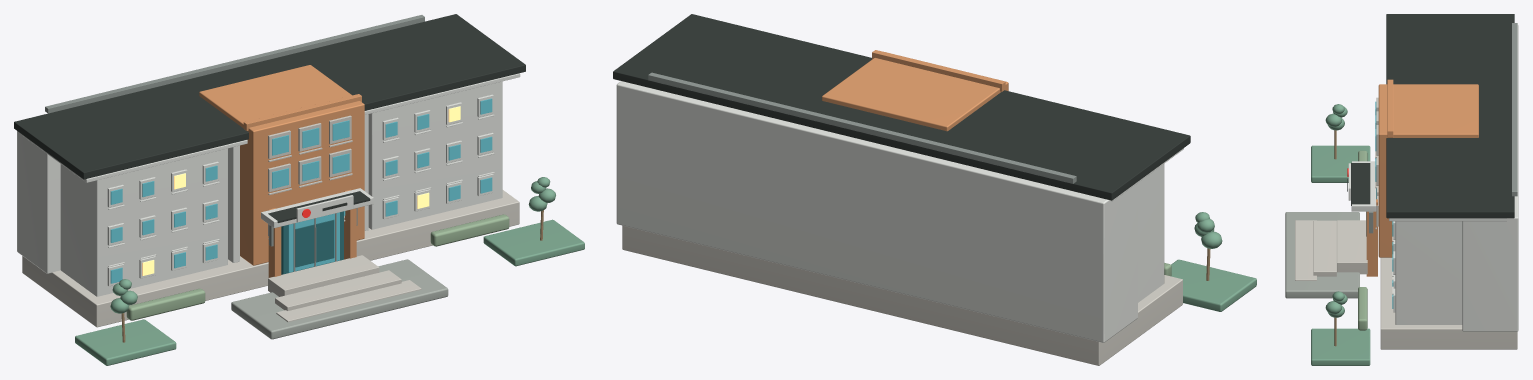
The model's file is visma.glb.
3 views of the same model, side by side, from view 1: azimuth 30°, elevation 25°; view 2: azimuth 150°, elevation 25°; view 3: azimuth 270°, elevation 25° (orthographic). The views are drawn at different scales.
Visible parts, largest first — view 1: LM_Visma_Roof_ContinuousFlatRoofline_ParapetBase, LM_Visma_LeftWing_WhiteFacade, LM_Visma_Center_OrangeCore, LM_Visma_RightWing_WhiteFacade, LM_Visma_Main_ContinuousBasePlinth, LM_Visma_Main_RearWhiteSpine, LM_Visma_Site_PavedForecourt, LM_Visma_Roof_BackLowGlassRibbon, LM_Visma_Site_LowLawn_Right, LM_Visma_Site_LowLawn_Left, LM_Visma_Entrance_Landing, LM_Visma_Entrance_StepMiddle (+15 smaller); view 2: LM_Visma_Main_RearWhiteSpine, LM_Visma_Roof_ContinuousFlatRoofline_ParapetBase, LM_Visma_Main_ContinuousBasePlinth, LM_Visma_Center_OrangeCore, LM_Visma_Roof_BackLowGlassRibbon, LM_Visma_LeftWing_WhiteFacade, LM_Visma_Site_LowLawn_Left, LM_Visma_Roof_CentralOrangeCrown; view 3: LM_Visma_Roof_ContinuousFlatRoofline_ParapetBase, LM_Visma_RightWing_WhiteFacade, LM_Visma_Main_RearWhiteSpine, LM_Visma_Center_OrangeCore, LM_Visma_Main_ContinuousBasePlinth, LM_Visma_Site_PavedForecourt, LM_Visma_Site_LowLawn_Right, LM_Visma_Site_LowLawn_Left, LM_Visma_Entrance_Landing, LM_Visma_Entrance_StepMiddle, LM_Visma_Entrance_StepLower, LM_Visma_Roof_BackLowGlassRibbon (+6 smaller).
Boxes of the visible parts, box(x1,y1,x2,y2) form: LM_Visma_Roof_ContinuousFlatRoofline_ParapetBase: box(14, 14, 525, 179); LM_Visma_LeftWing_WhiteFacade: box(60, 148, 227, 296); LM_Visma_Center_OrangeCore: box(199, 65, 364, 265); LM_Visma_RightWing_WhiteFacade: box(368, 81, 502, 229); LM_Visma_Main_ContinuousBasePlinth: box(22, 190, 519, 327); LM_Visma_Main_RearWhiteSpine: box(17, 131, 60, 273); LM_Visma_Site_PavedForecourt: box(231, 259, 448, 339); LM_Visma_Roof_BackLowGlassRibbon: box(45, 15, 424, 113); LM_Visma_Site_LowLawn_Right: box(483, 219, 584, 266); LM_Visma_Site_LowLawn_Left: box(75, 319, 176, 365); LM_Visma_Entrance_Landing: box(268, 255, 379, 296); LM_Visma_Entrance_StepMiddle: box(275, 270, 401, 310); LM_Visma_Main_RearWhiteSpine: box(616, 81, 1137, 342); LM_Visma_Roof_ContinuousFlatRoofline_ParapetBase: box(613, 14, 1190, 200); LM_Visma_Main_ContinuousBasePlinth: box(622, 225, 1182, 365); LM_Visma_Center_OrangeCore: box(822, 52, 1008, 131); LM_Visma_Roof_BackLowGlassRibbon: box(648, 72, 1076, 183); LM_Visma_LeftWing_WhiteFacade: box(1138, 164, 1164, 302); LM_Visma_Site_LowLawn_Left: box(1171, 259, 1256, 311); LM_Visma_Roof_CentralOrangeCrown: box(872, 50, 1005, 91); LM_Visma_Roof_ContinuousFlatRoofline_ParapetBase: box(1386, 14, 1514, 218); LM_Visma_RightWing_WhiteFacade: box(1395, 221, 1462, 324); LM_Visma_Main_RearWhiteSpine: box(1462, 25, 1518, 331); LM_Visma_Center_OrangeCore: box(1378, 84, 1478, 257); LM_Visma_Main_ContinuousBasePlinth: box(1380, 257, 1517, 349); LM_Visma_Site_PavedForecourt: box(1285, 212, 1359, 298); LM_Visma_Site_LowLawn_Right: box(1311, 328, 1370, 365); LM_Visma_Site_LowLawn_Left: box(1311, 145, 1370, 182); LM_Visma_Entrance_Landing: box(1337, 220, 1367, 274); LM_Visma_Entrance_StepMiddle: box(1313, 220, 1336, 276); LM_Visma_Entrance_StepLower: box(1295, 220, 1316, 280); LM_Visma_Roof_BackLowGlassRibbon: box(1512, 23, 1517, 196).
Size of the model in its own units: 3.94 by 1.32 by 1.81.
